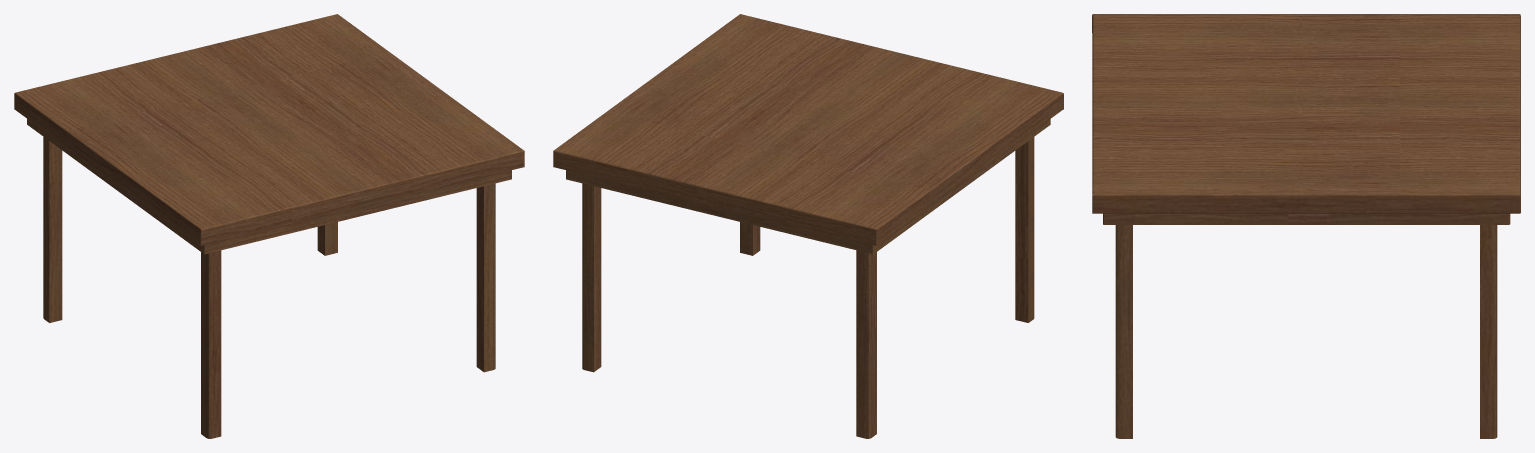
Rendered from table.gltf.
3 renders of one model, left to right at view 1: azimuth 30°, elevation 25°; view 2: azimuth 150°, elevation 25°; view 3: azimuth 270°, elevation 25°, orthographic. The views are drawn at different scales.
Visible parts, largest first — view 1: pCube6:PIV; view 2: pCube6:PIV; view 3: pCube6:PIV.
Part boxes in pixels (x1=…): pCube6:PIV: x1=14, y1=14, x2=524, y2=438; pCube6:PIV: x1=553, y1=14, x2=1063, y2=438; pCube6:PIV: x1=1092, y1=14, x2=1520, y2=438.
Size of the model in its own units: 10 by 6.55 by 10.
Materials: 1 (1 with a texture image).
